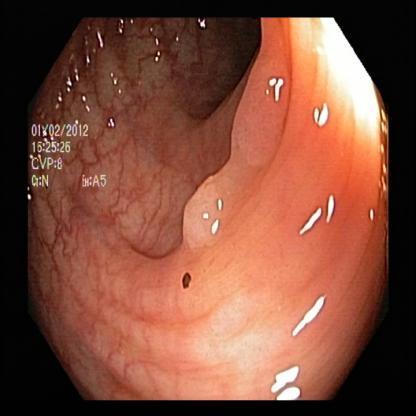Labels: (28, 119, 112, 197)
Polyps: (223, 69, 293, 168), (174, 170, 242, 267)
